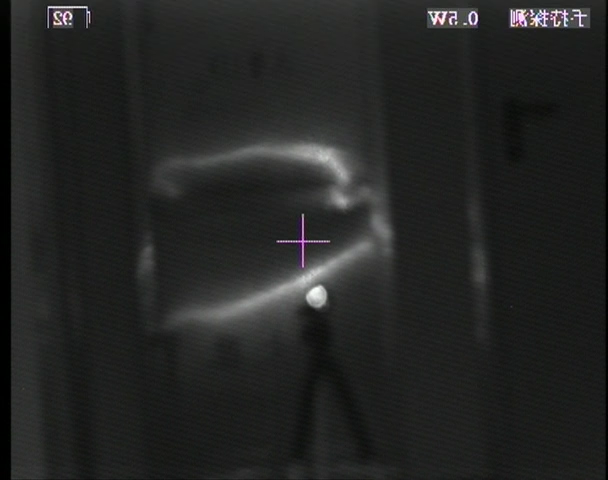my: (303, 282, 328, 309)
